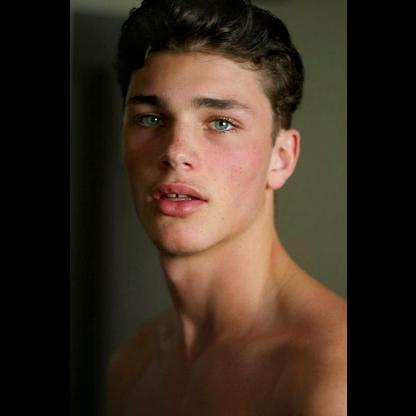Male: (117, 51, 299, 250)
